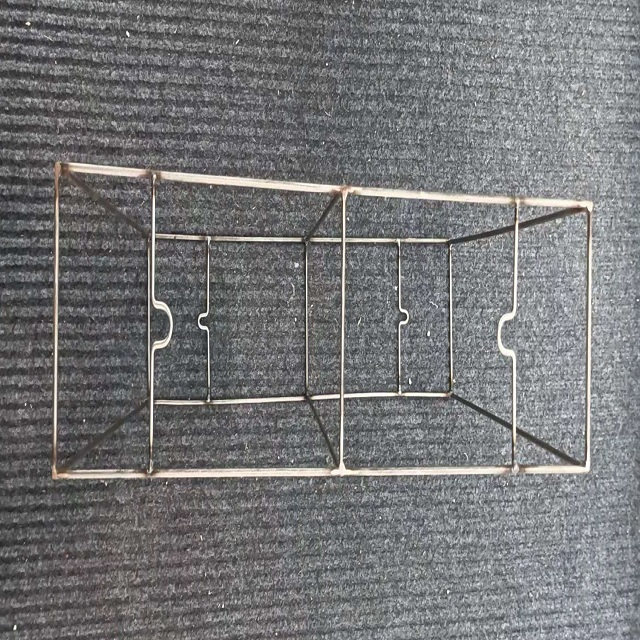curvedhole: (489, 300, 523, 369), (145, 293, 177, 358), (193, 306, 213, 336), (391, 304, 411, 334)
